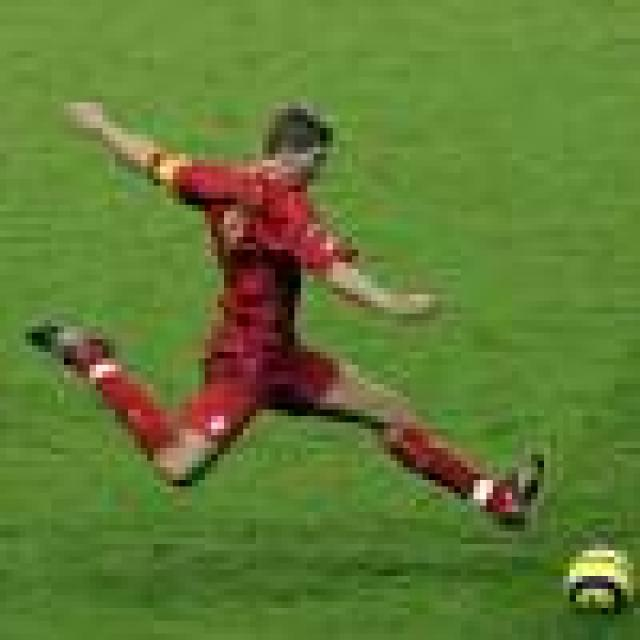shooting: (15, 80, 640, 616)
